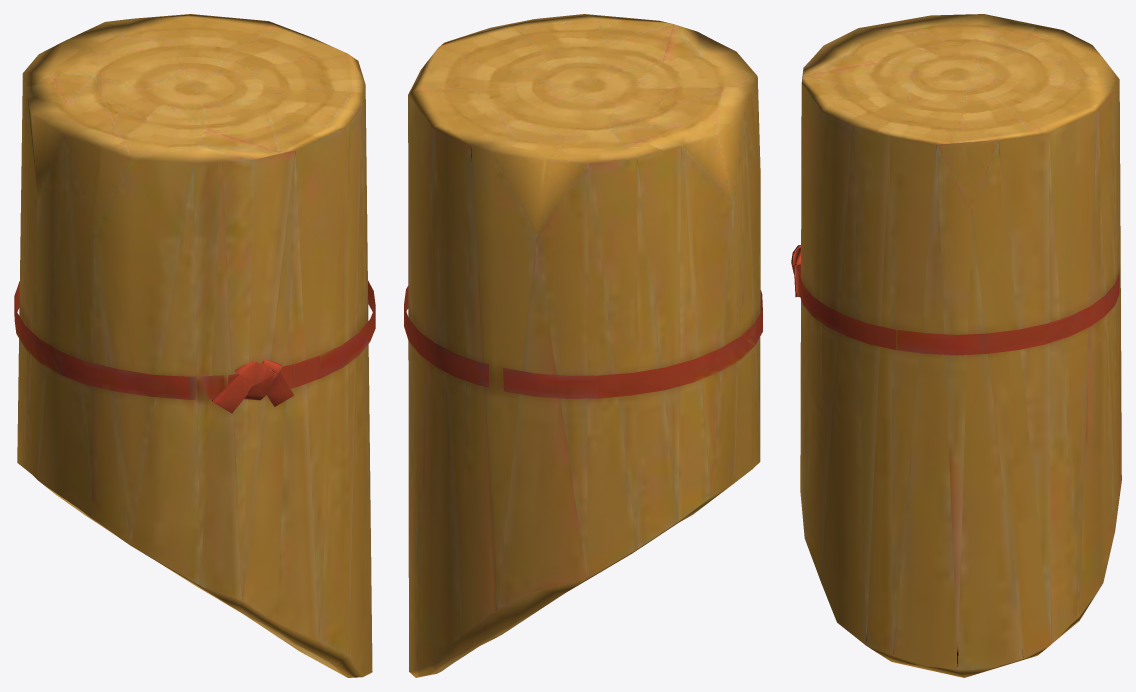
The model's file is target_top.glb.
3 views of the same model, side by side, from view 1: azimuth 30°, elevation 25°; view 2: azimuth 150°, elevation 25°; view 3: azimuth 270°, elevation 25° (orthographic). The views are drawn at different scales.
Visible parts, largest first — view 1: geometry_0; view 2: geometry_0; view 3: geometry_0.
Part boxes in pixels (box(x1,y1,x2,y2)): geometry_0: box(14, 14, 375, 677); geometry_0: box(404, 14, 762, 677); geometry_0: box(791, 14, 1121, 677).
Bounding box in the file's own units: 0.2685 × 0.5 × 0.277.
1 material, 1 textured.
